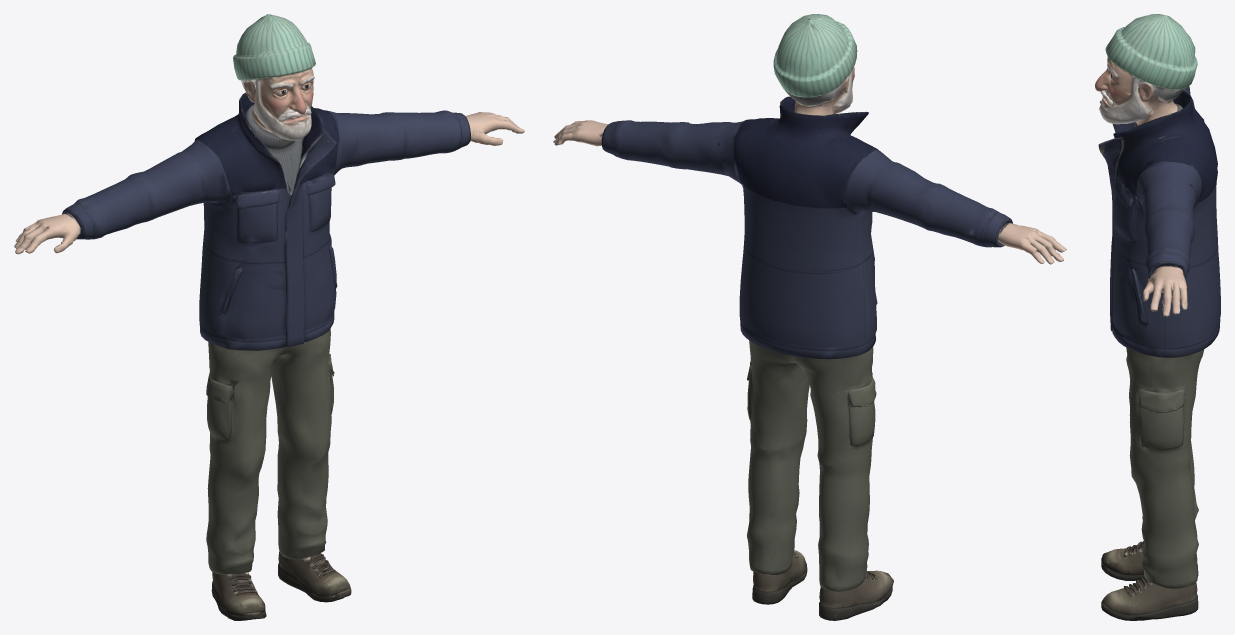
File: harju_meshy.glb
3 renders of one model, left to right at view 1: azimuth 30°, elevation 25°; view 2: azimuth 150°, elevation 25°; view 3: azimuth 270°, elevation 25°, orthographic.
Bounding box in the file's own units: 1.59 × 1.73 × 0.3415.
Materials: 1 (1 with a texture image).
